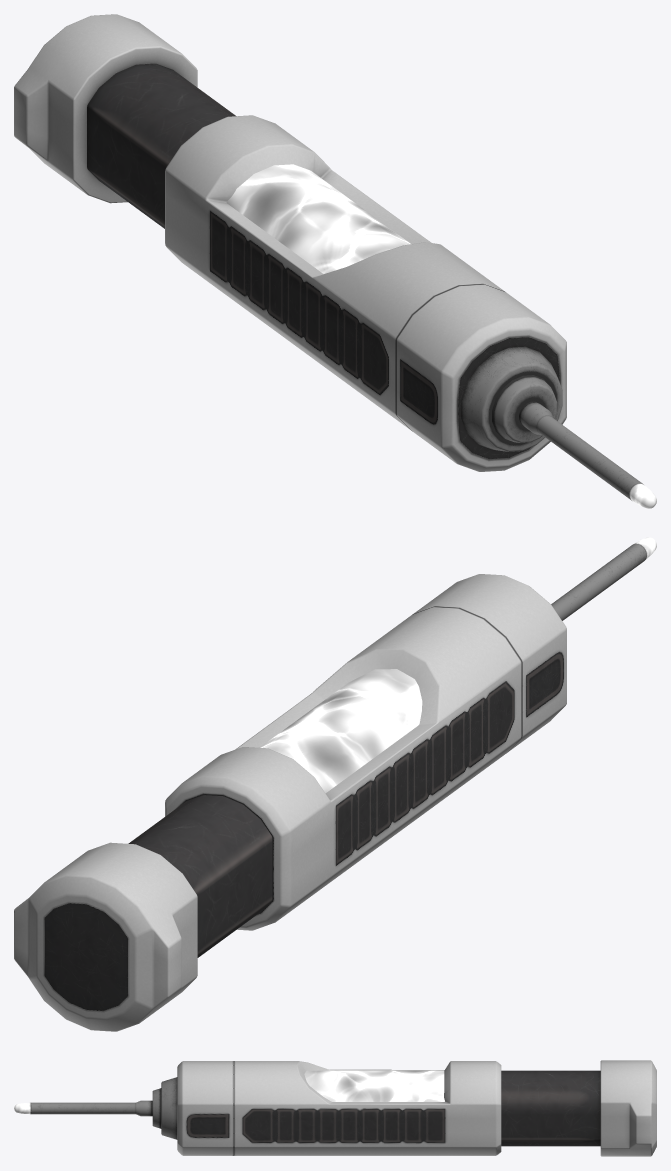
File: SciFiMedInjector01_2.FBX
3 renders of one model, top to bottom at view 1: azimuth 30°, elevation 25°; view 2: azimuth 150°, elevation 25°; view 3: azimuth 270°, elevation 25°, orthographic. The views are drawn at different scales.
Parts seen in each view (by area): view 1: SciFiMedInjector01_2, Pump; view 2: SciFiMedInjector01_2, Pump; view 3: SciFiMedInjector01_2, Pump.
Boxes of the visible parts, x1,y1,x2,y2 form: SciFiMedInjector01_2: [165, 115, 656, 508]; Pump: [14, 14, 410, 273]; SciFiMedInjector01_2: [165, 537, 656, 930]; Pump: [14, 669, 422, 1031]; SciFiMedInjector01_2: [14, 1061, 501, 1155]; Pump: [304, 1060, 656, 1156].
Size of what is drawn, in the model's own units: 0.0444 by 0.0422 by 0.2808.
